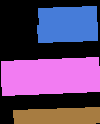parkingspot: (1, 73, 100, 95), (1, 57, 99, 78), (13, 107, 100, 124), (37, 22, 97, 42), (38, 6, 96, 26)
